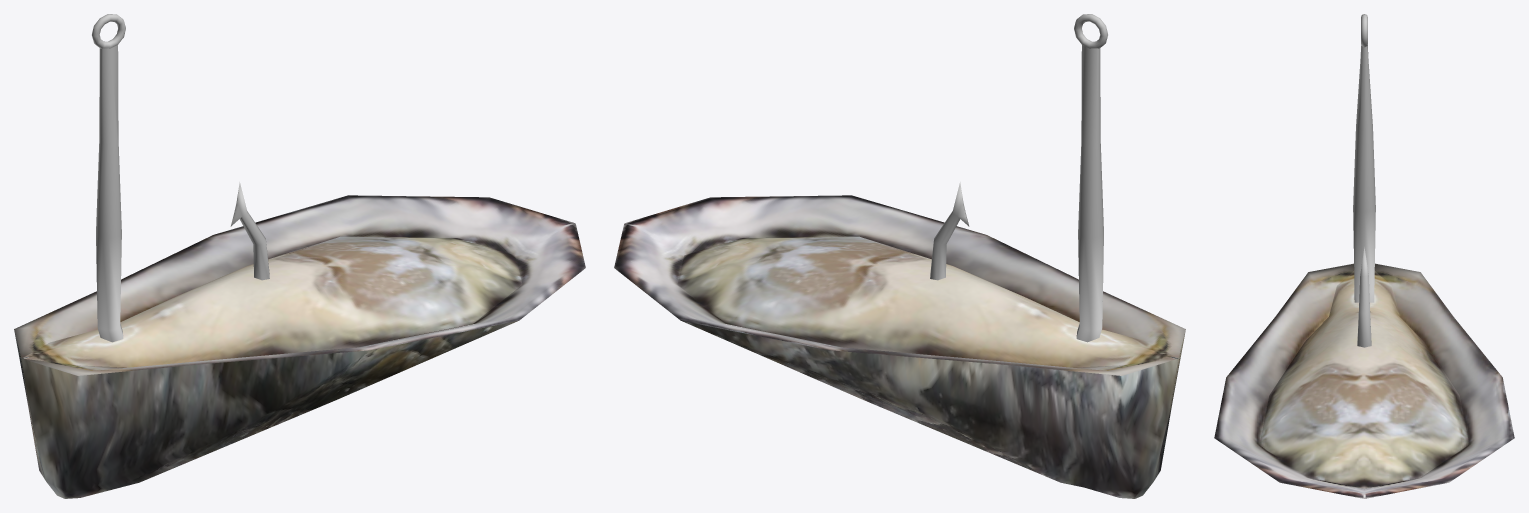
The model's file is Bait_Oyster.fbx.
The picture shows the model from 3 angles, left to right: view 1: azimuth 30°, elevation 25°; view 2: azimuth 150°, elevation 25°; view 3: azimuth 270°, elevation 25°; orthographic projection. The views are drawn at different scales.
Parts seen in each view (by area): view 1: Bait_Oyster; view 2: Bait_Oyster; view 3: Bait_Oyster.
Part boxes in pixels (bbox=[...]): Bait_Oyster: bbox=[14, 14, 585, 498]; Bait_Oyster: bbox=[614, 14, 1185, 498]; Bait_Oyster: bbox=[1214, 14, 1514, 498].
Size of the model in its own units: 0.6563 by 0.536 by 0.3511.
